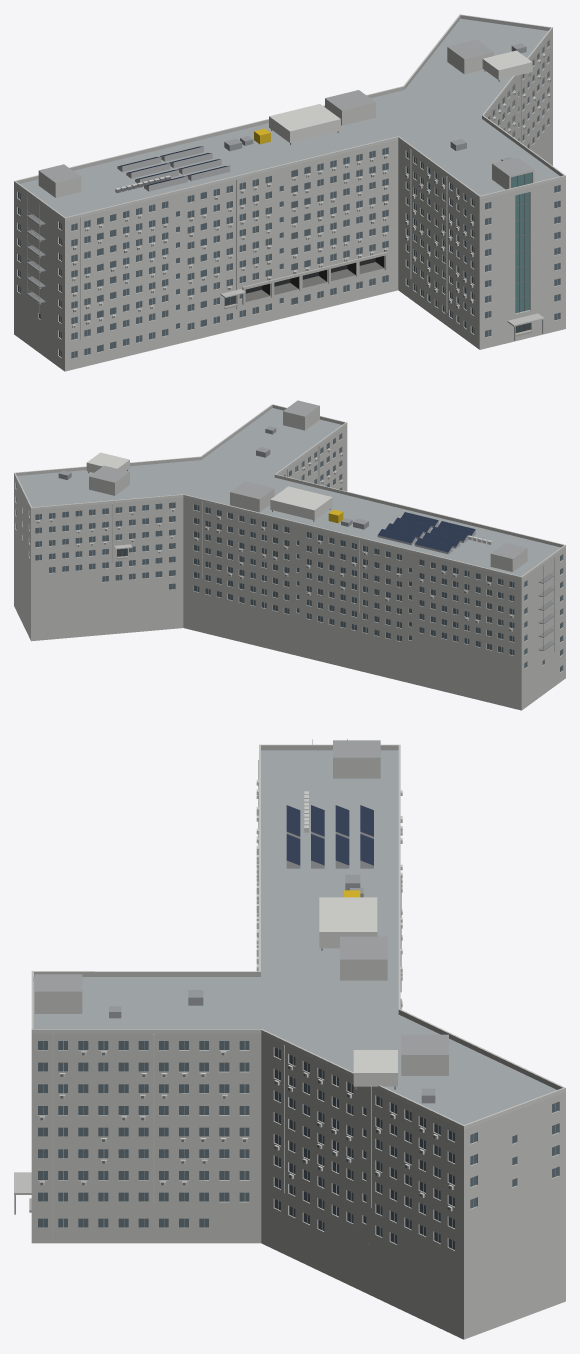
3 renders of one model, top to bottom at view 1: azimuth 30°, elevation 25°; view 2: azimuth 150°, elevation 25°; view 3: azimuth 270°, elevation 25°, orthographic. The views are drawn at different scales.
Parts seen in each view (by area): view 1: s06__wall, s06__roof, s06__glass, s06__coping, s06__mechWhite, s06__acUnit, s06__frame, s06__penthouse, s06__solarFrame, s06__wallInner, s06__roofDark, s06__stairGlass (+8 smaller); view 2: s06__wall, s06__roof, s06__glass, s06__coping, s06__penthouse, s06__solarPanel, s06__mechWhite, s06__wallInner, s06__frame, s06__roofDark, s06__acUnit, s06__mechGrey (+3 smaller); view 3: s06__wall, s06__roof, s06__glass, s06__coping, s06__mechWhite, s06__penthouse, s06__roofDark, s06__solarPanel, s06__wallInner, s06__acUnit, s06__frame, s06__pipe (+1 smaller).
Part boxes in pixels (bbox=[...]): s06__wall: bbox=[14, 30, 565, 371]; s06__roof: bbox=[20, 18, 559, 217]; s06__glass: bbox=[18, 41, 560, 358]; s06__coping: bbox=[14, 14, 565, 220]; s06__mechWhite: bbox=[269, 50, 532, 142]; s06__acUnit: bbox=[72, 54, 550, 328]; s06__frame: bbox=[19, 41, 557, 357]; s06__penthouse: bbox=[38, 47, 534, 197]; s06__solarFrame: bbox=[117, 146, 230, 191]; s06__wallInner: bbox=[16, 15, 563, 183]; s06__roofDark: bbox=[39, 39, 534, 182]; s06__stairGlass: bbox=[511, 172, 532, 313]; s06__wall: bbox=[14, 425, 565, 710]; s06__roof: bbox=[17, 408, 560, 576]; s06__glass: bbox=[16, 433, 562, 671]; s06__coping: bbox=[14, 404, 565, 579]; s06__penthouse: bbox=[89, 406, 527, 571]; s06__solarPanel: bbox=[378, 512, 475, 552]; s06__mechWhite: bbox=[86, 452, 332, 520]; s06__wallInner: bbox=[15, 405, 563, 547]; s06__frame: bbox=[39, 434, 561, 671]; s06__roofDark: bbox=[89, 400, 527, 558]; s06__acUnit: bbox=[36, 449, 513, 631]; s06__mechGrey: bbox=[58, 426, 368, 529]; s06__wall: bbox=[31, 1033, 565, 1339]; s06__roof: bbox=[33, 750, 556, 1124]; s06__glass: bbox=[38, 1041, 558, 1249]; s06__coping: bbox=[31, 744, 565, 1129]; s06__mechWhite: bbox=[319, 897, 397, 1086]; s06__penthouse: bbox=[34, 757, 448, 1075]; s06__roofDark: bbox=[34, 740, 448, 1054]; s06__solarPanel: bbox=[286, 805, 373, 865]; s06__wallInner: bbox=[33, 745, 562, 1089]; s06__acUnit: bbox=[39, 780, 453, 1211]; s06__frame: bbox=[43, 1041, 555, 1249]; s06__pipe: bbox=[52, 759, 401, 1236].
Size of the model in its own units: 134 by 37.3 by 80.82.
